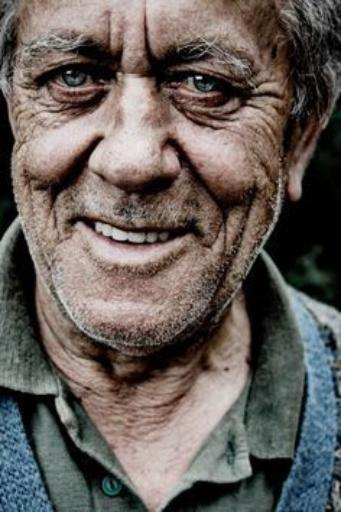left_eye: (169, 67, 240, 100)
left_lip_corner: (181, 218, 201, 248)
right_eye: (42, 58, 111, 92)
right_lip_corner: (67, 208, 95, 235)
